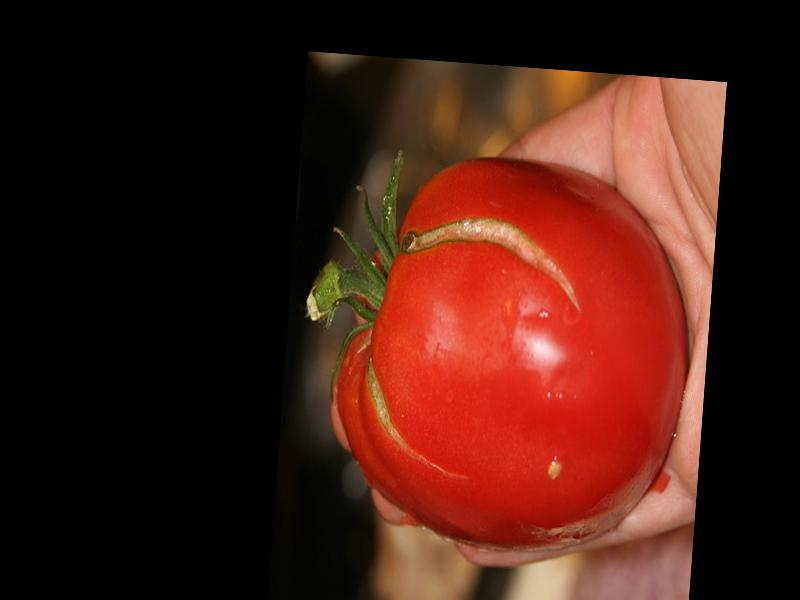Tomato: (325, 152, 700, 561)
